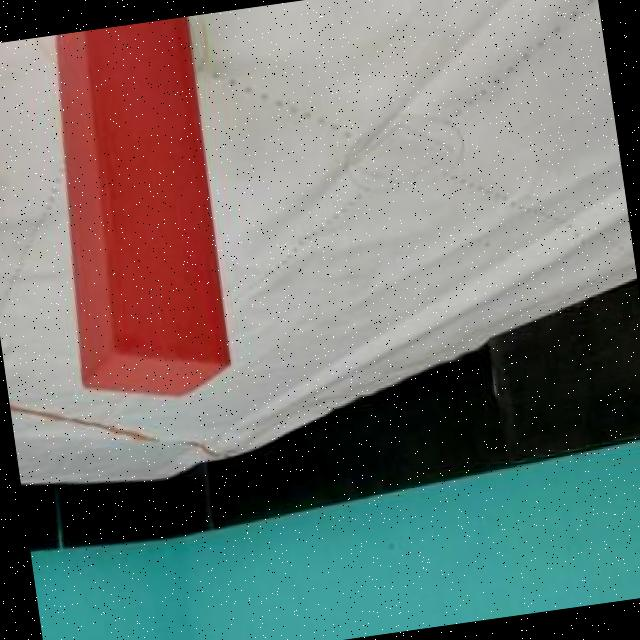redbox: (35, 16, 238, 412)
